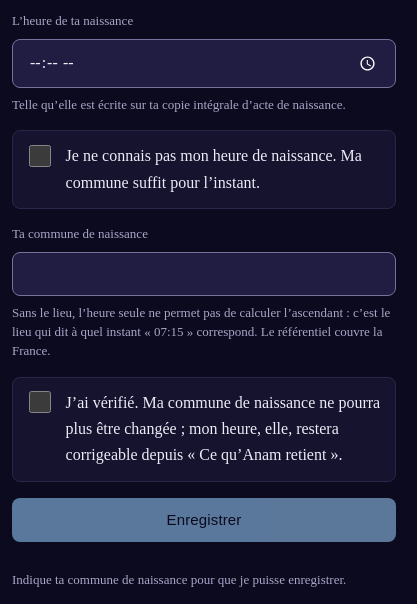
Test case: [A2] la commune se demande même quand l’heure manque › [LE TEST QUI COMPTE] cocher « je ne connais pas mon heure » libère le champ
Click the checkbox labelled "Je ne connais pas mon heure" at coordinates (40, 156), box x1=29 y1=145 x2=51 y2=167
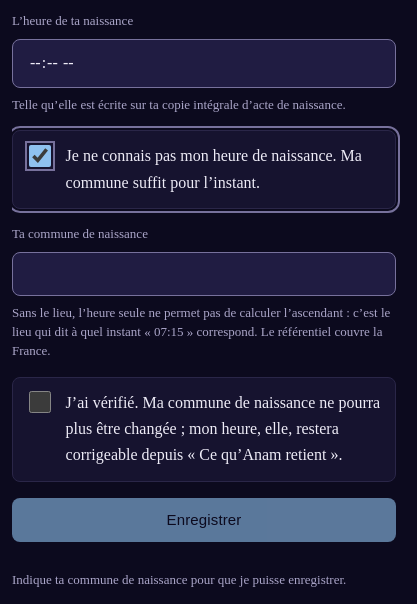
expect the time field labelled "L’heure de ta naissance" is disabled: met, box x1=12 y1=39 x2=396 y2=88
